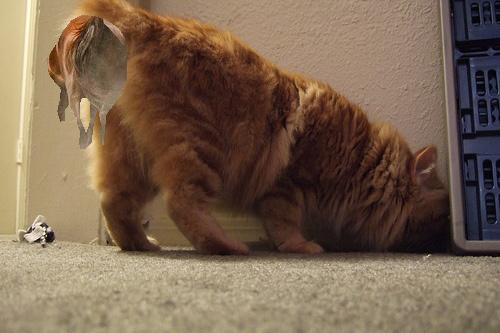tampered: (48, 16, 127, 149)
